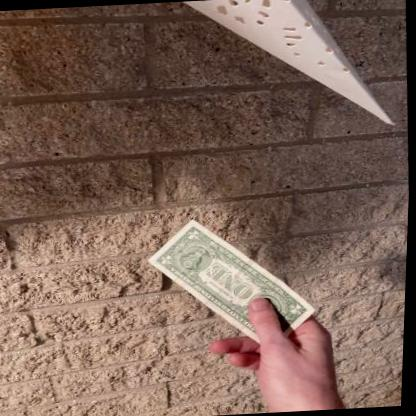one-back: (148, 218, 319, 352)
